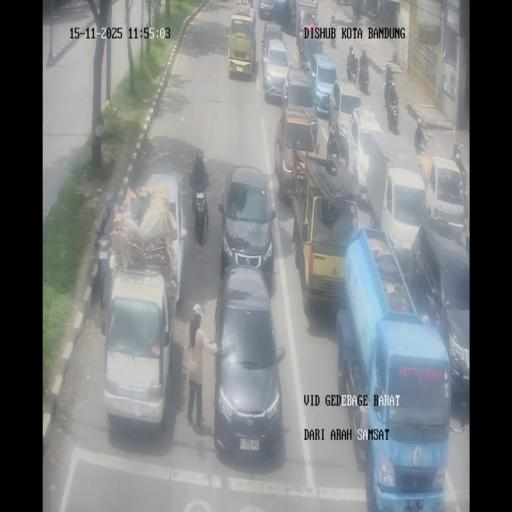car: (212, 266, 285, 461), (102, 266, 174, 432), (218, 163, 276, 284), (138, 173, 190, 307), (381, 164, 430, 268), (281, 66, 317, 138), (330, 77, 364, 152), (261, 38, 290, 102), (298, 27, 324, 70), (298, 9, 319, 33), (257, 0, 275, 20), (286, 0, 298, 26), (236, 0, 252, 16)
motorcycle: (94, 226, 114, 304), (192, 188, 209, 245), (452, 156, 467, 194), (384, 76, 396, 110), (358, 60, 370, 93), (347, 61, 358, 85), (414, 135, 427, 155), (368, 1, 380, 21), (328, 15, 336, 45), (352, 2, 362, 22), (463, 189, 469, 218)
truck: (337, 231, 451, 507), (291, 153, 362, 314), (227, 4, 257, 79)
